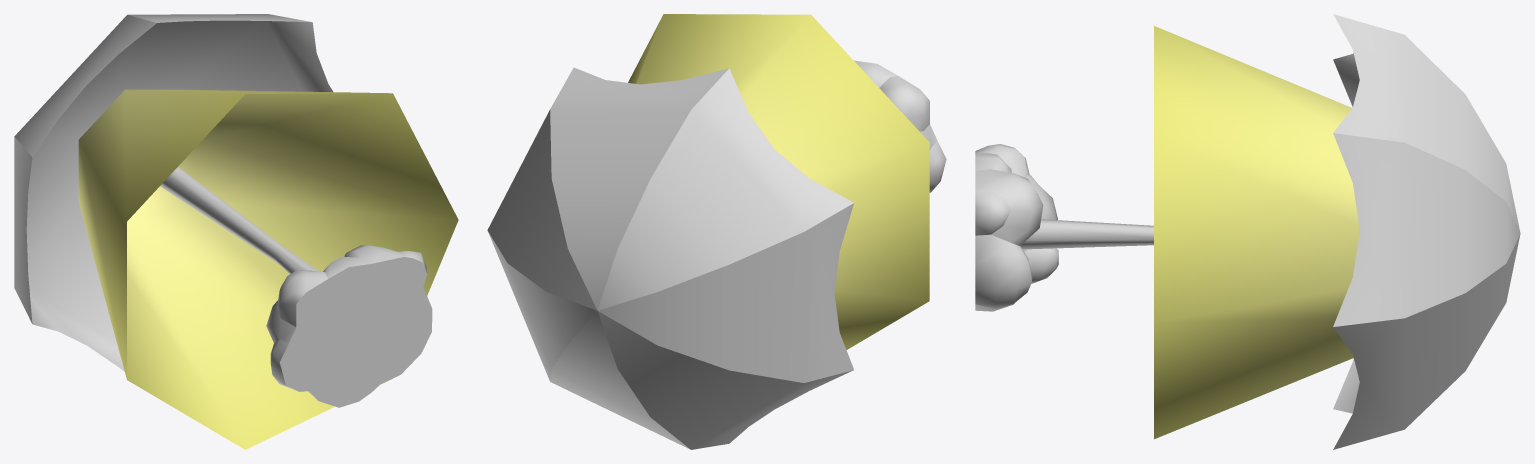
File: UmbrellaLampDecoration.fbx
3 views of the same model, side by side, from view 1: azimuth 30°, elevation 25°; view 2: azimuth 150°, elevation 25°; view 3: azimuth 270°, elevation 25° (orthographic). The views are drawn at different scales.
Parts seen in each view (by area): view 1: UmbrellaLampLightDecoration, UmbrellaLampDecoration; view 2: UmbrellaLampDecoration, UmbrellaLampLightDecoration; view 3: UmbrellaLampDecoration, UmbrellaLampLightDecoration.
Boxes of the visible parts, box(x1,y1,x2,y2) form: UmbrellaLampLightDecoration: box(78, 89, 458, 449); UmbrellaLampDecoration: box(14, 14, 432, 407); UmbrellaLampDecoration: box(487, 60, 946, 449); UmbrellaLampLightDecoration: box(628, 14, 929, 349); UmbrellaLampDecoration: box(975, 14, 1520, 449); UmbrellaLampLightDecoration: box(1154, 26, 1359, 439).
Size of the model in its own units: 109 by 112 by 140.
